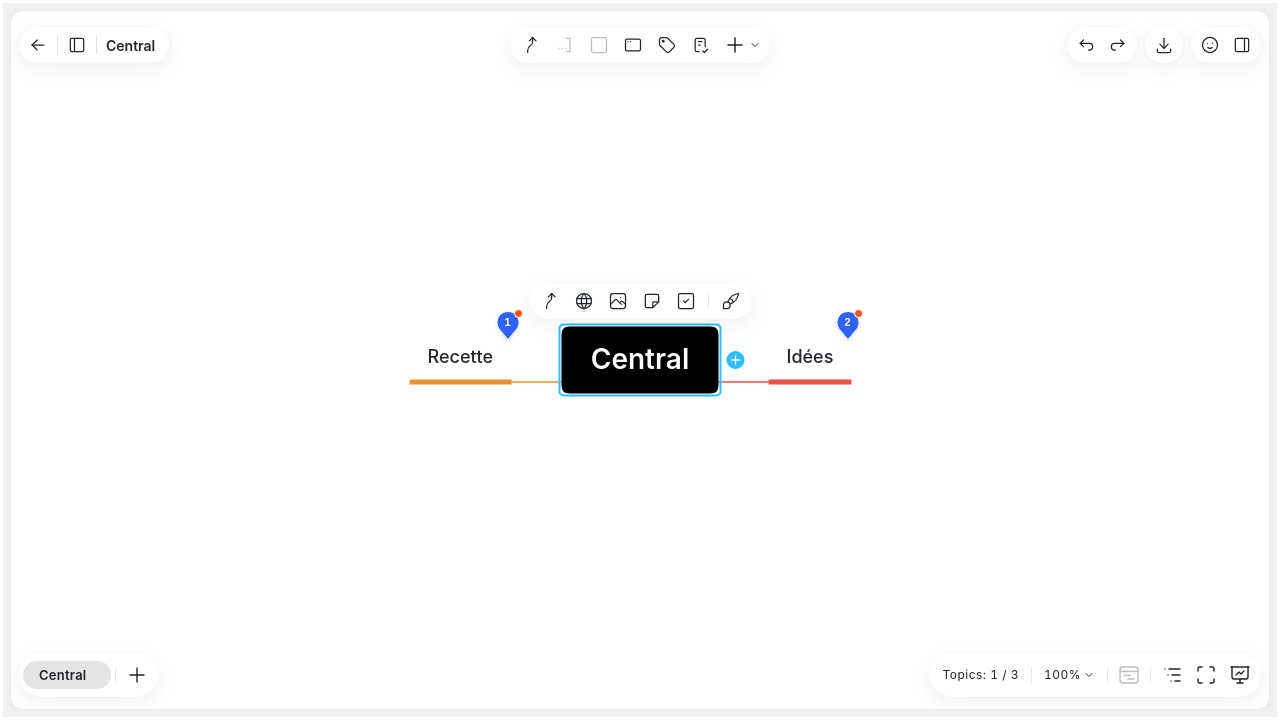
Test case: commenter un sujet de la carte › les sujets commentés portent leur épingle avec le compte ; un clic ouvre le fil, un autre le ferme
Click the button with class "notak-epingle-bouton" showing "2": click(848, 325) [836, 310, 860, 340]
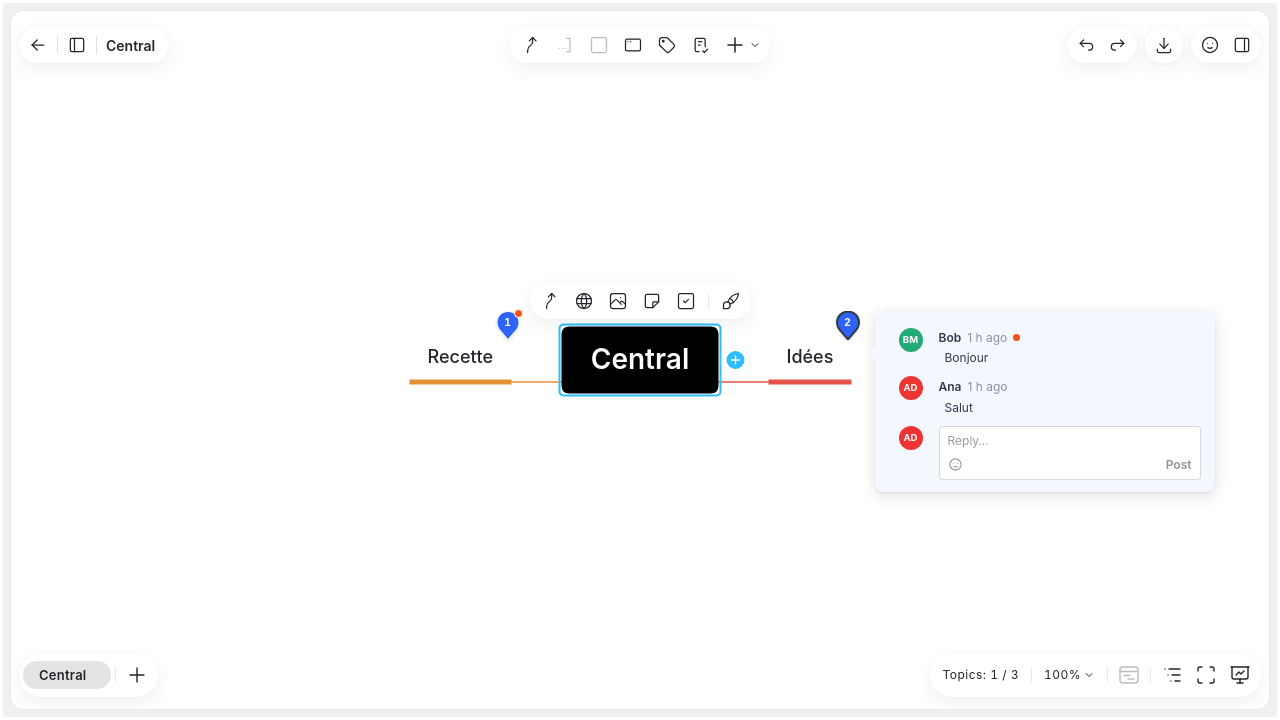
expect the dialog with class "notak-fil-attache" shows "Bonjour": met, box [944, 350, 988, 364]
expect the dialog with class "notak-fil-attache" shows "Salut": met, box [944, 400, 973, 414]
Click the button with class "notak-epingle-bouton" showing "2": click(848, 325) [836, 310, 860, 340]
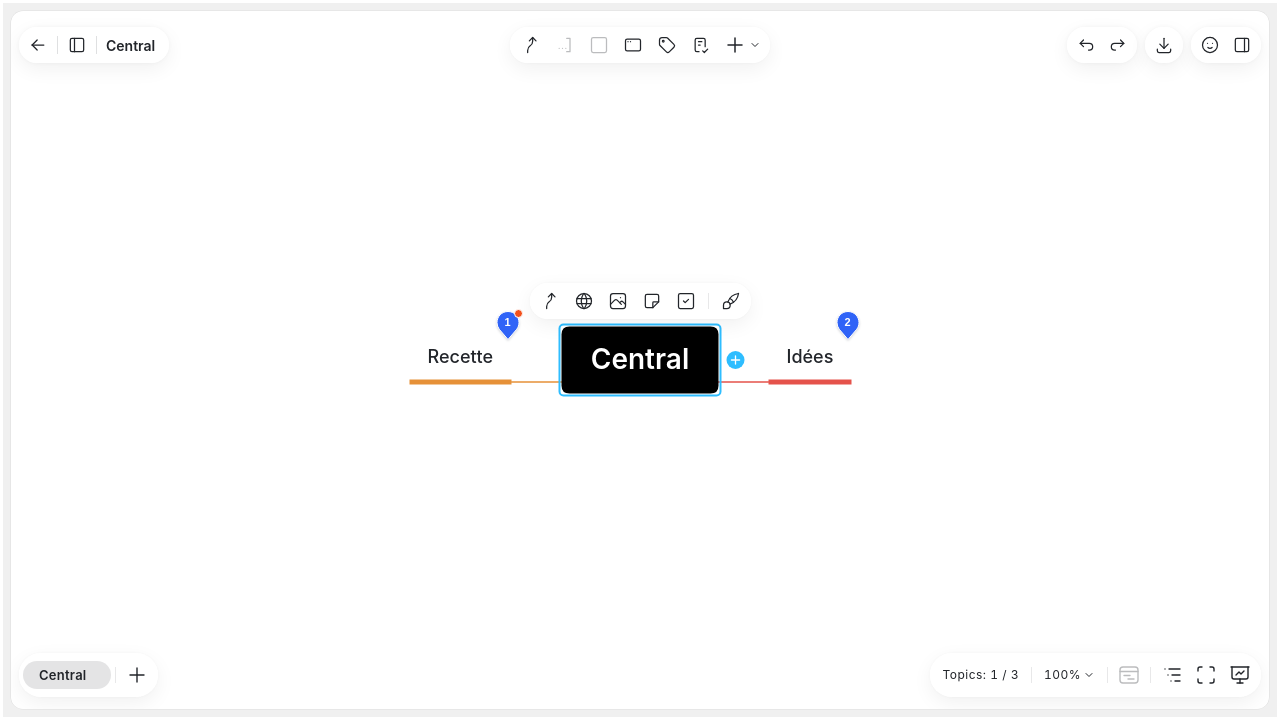
expect the dialog with class "notak-fil-attache" is gone: met
